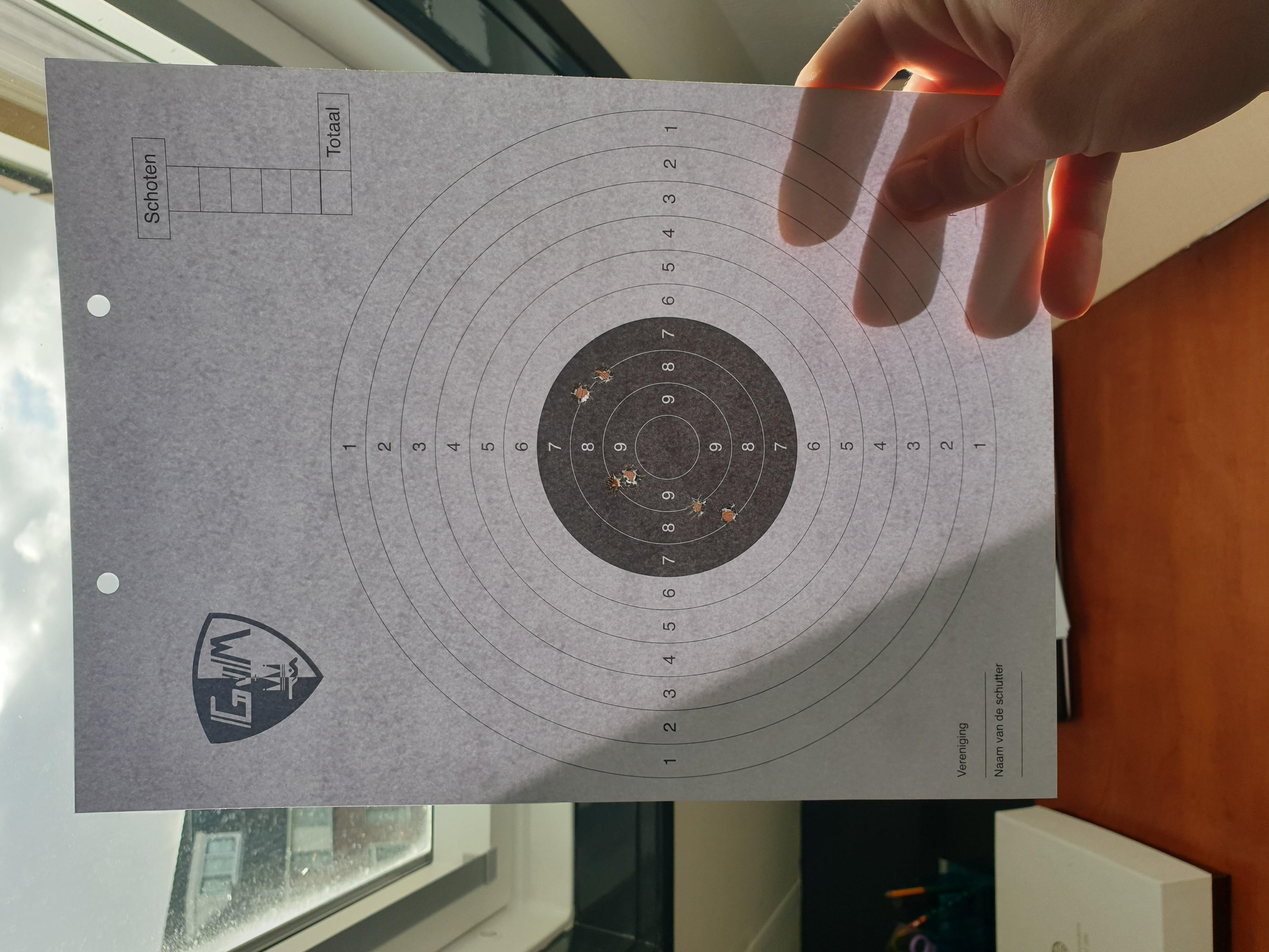hole: (686, 494, 708, 517), (570, 383, 592, 405), (620, 464, 641, 487), (603, 472, 623, 496), (591, 365, 615, 384), (718, 503, 738, 524)
